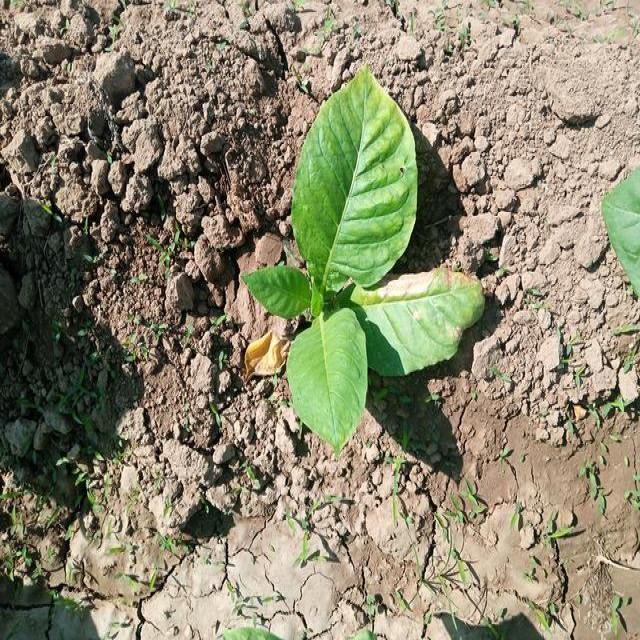crop: (270, 70, 494, 432)
